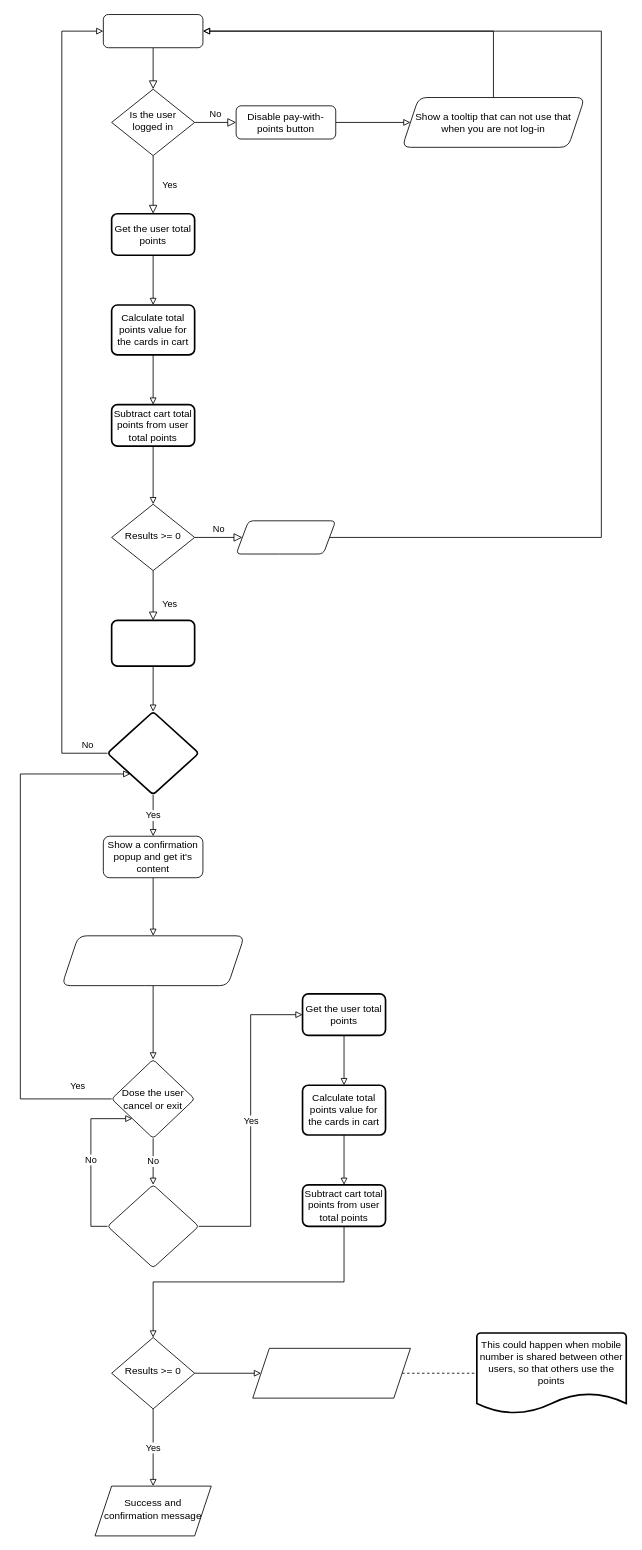
Image size: 642x1550. Some labels were removed from this diagram. Each missing label, with the centre of its shape:
"Checkout page" goes at (x=153, y=31).
"Dose the user confirm" goes at (x=153, y=1226).
"Dose user click pay-with-points" goes at (x=152, y=752).
"Enable pay-with-points button" goes at (x=152, y=642).
"Fail message that you do not have enough points" goes at (x=331, y=1373).
"Title, small description, subtraction equation, confirm and cancel buttons" goes at (x=152, y=960).
"Tooltip say not enough points" goes at (x=285, y=537).
